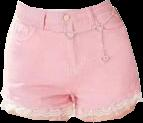Pantleg: (67, 0, 142, 121), (0, 1, 72, 120)
Waistline: (18, 0, 107, 10)
